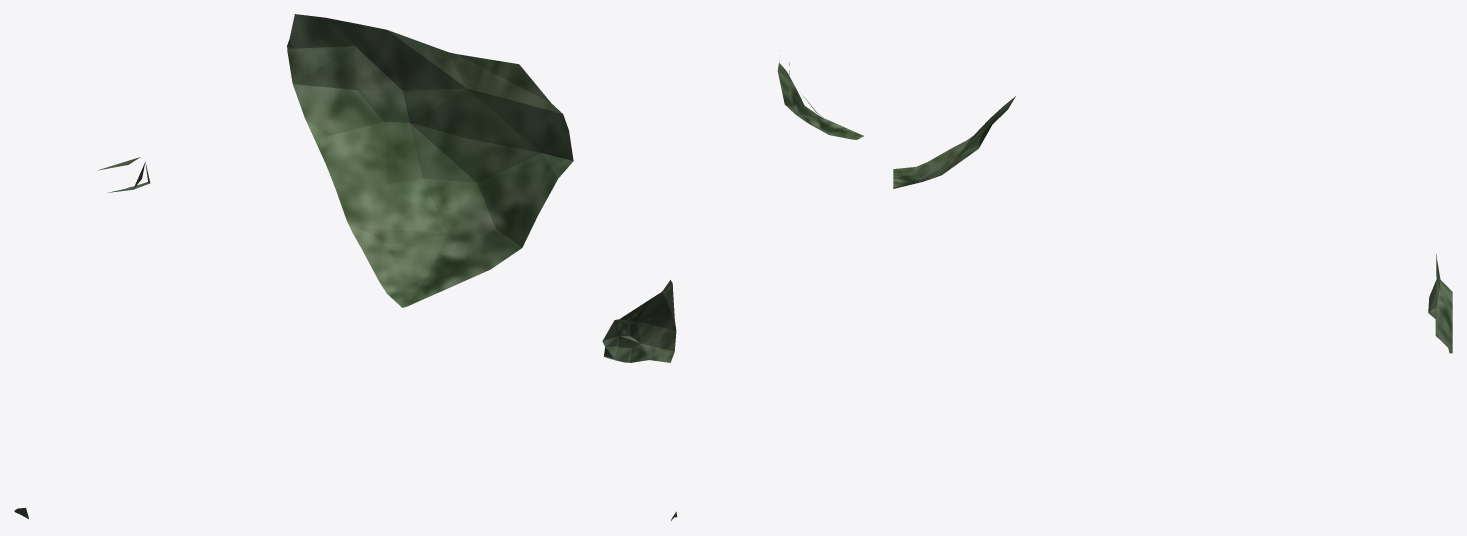
3 views of the same model, side by side, from view 1: azimuth 30°, elevation 25°; view 2: azimuth 150°, elevation 25°; view 3: azimuth 270°, elevation 25° (orthographic). The views are drawn at different scales.
Size of the model in its own units: 0.7509 by 2.95 by 2.95.
1 material, 1 textured.
